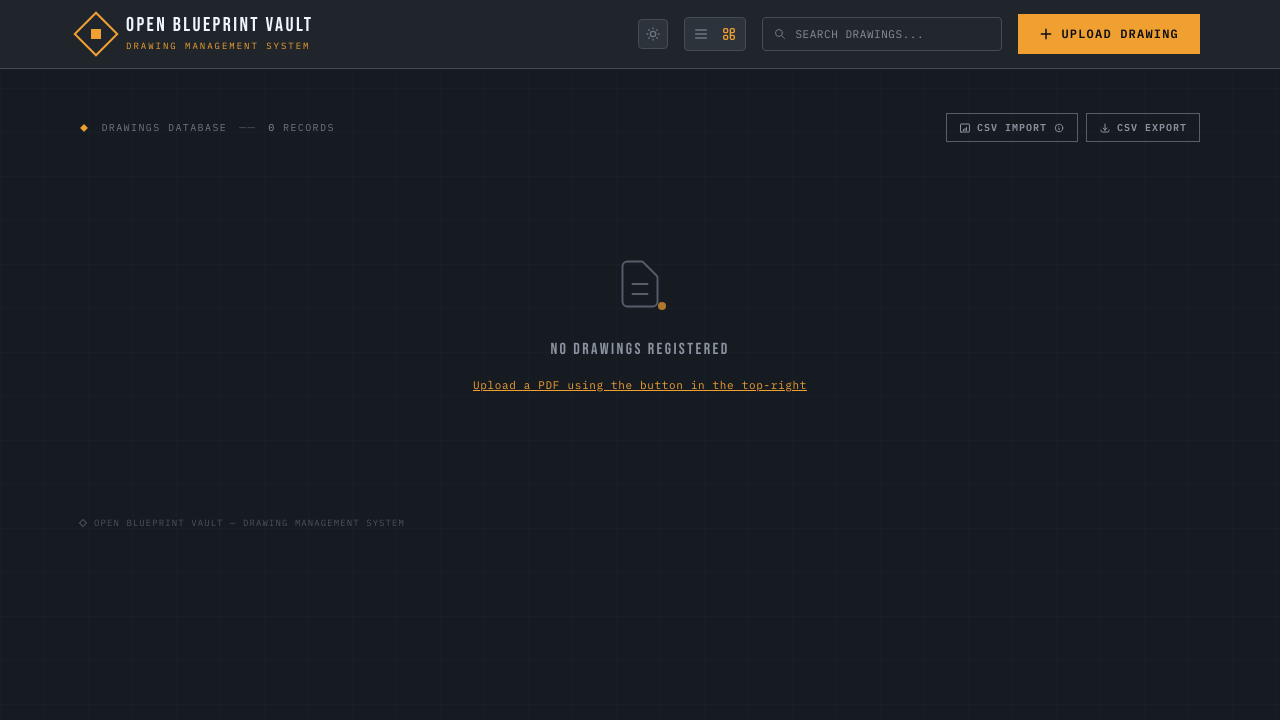
Test: Home Page › handles upload interaction
Expected: the text "NO DRAWINGS REGISTERED" is shown, [550, 340, 730, 359]
Click the button "Upload Drawing" at (1109, 34), box [1018, 14, 1200, 54]
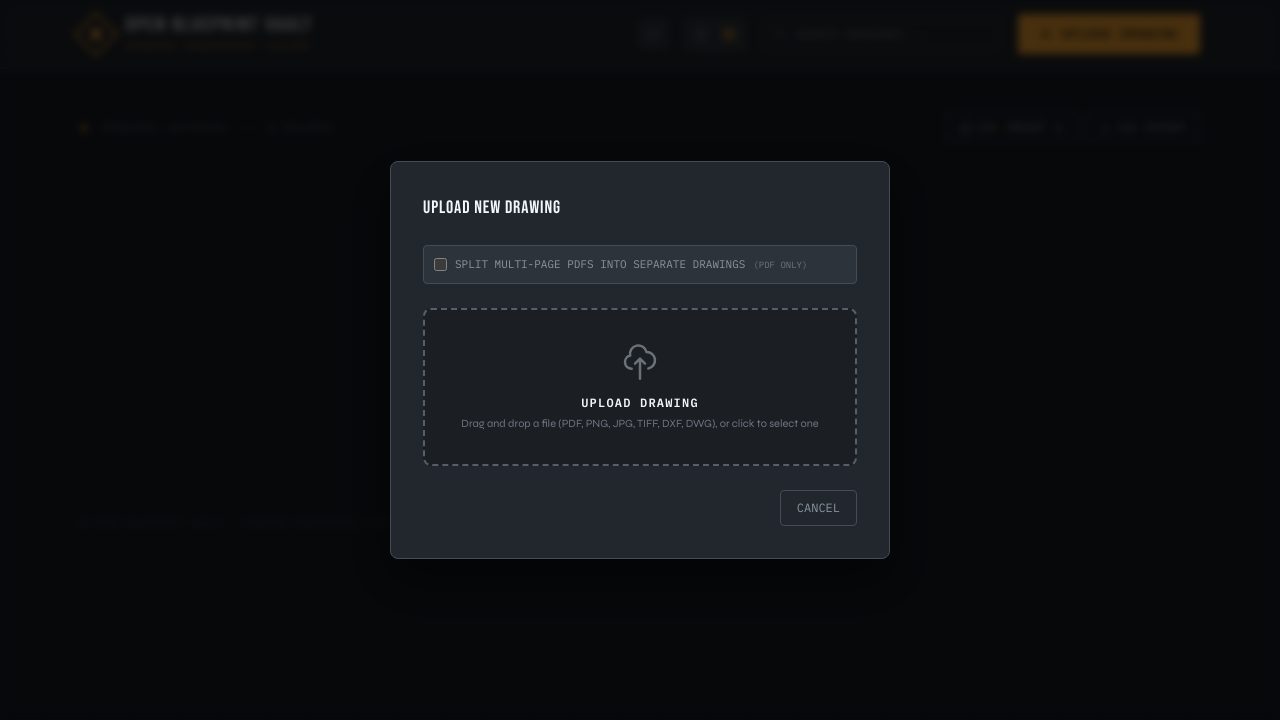
Expected: the heading "Upload New Drawing" is shown, [423, 197, 561, 218]
